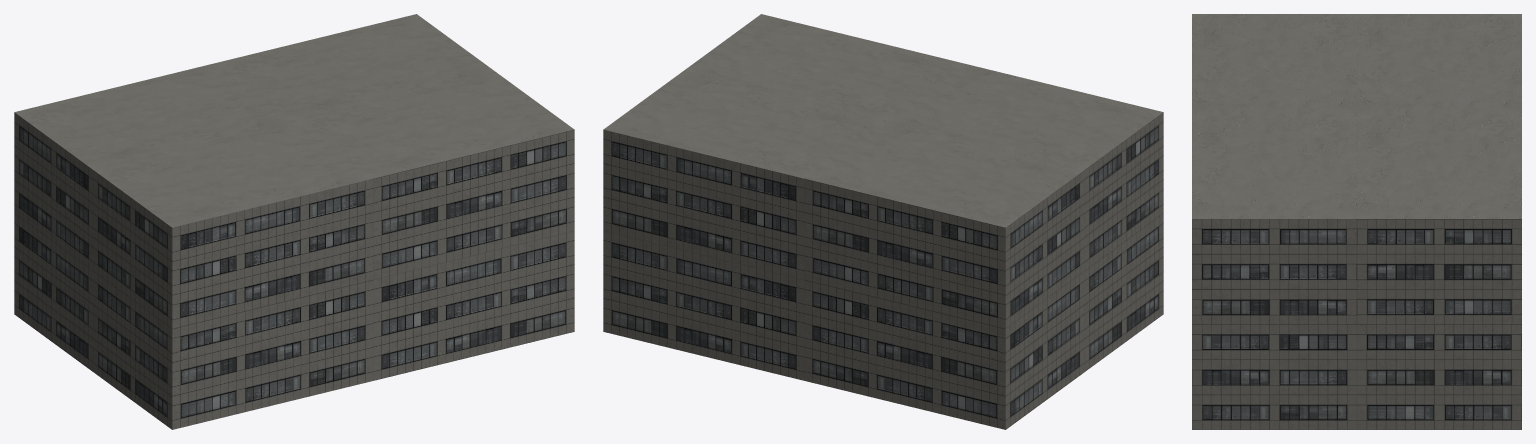
File: office_building_1_bgr.fbx
3 renders of one model, left to right at view 1: azimuth 30°, elevation 25°; view 2: azimuth 150°, elevation 25°; view 3: azimuth 270°, elevation 25°, orthographic. The views are drawn at different scales.
Visible parts, largest first — view 1: office_building_1_bgr; view 2: office_building_1_bgr; view 3: office_building_1_bgr.
Boxes of the visible parts, x1,y1,x2,y2 form: office_building_1_bgr: [14, 14, 574, 429]; office_building_1_bgr: [603, 14, 1163, 429]; office_building_1_bgr: [1192, 14, 1521, 429].
Bounding box in the file's own units: 5000 × 2400 × 3400.
